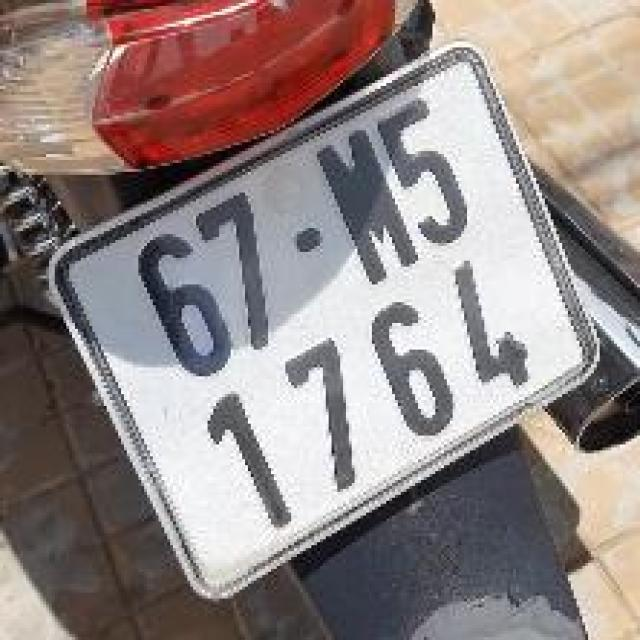1: (184, 380, 308, 548)
4: (424, 237, 550, 413)
5: (363, 89, 492, 263)
6: (118, 219, 251, 402), (348, 289, 471, 461)
7: (183, 181, 305, 367), (264, 320, 379, 507)
M: (300, 117, 435, 304)
